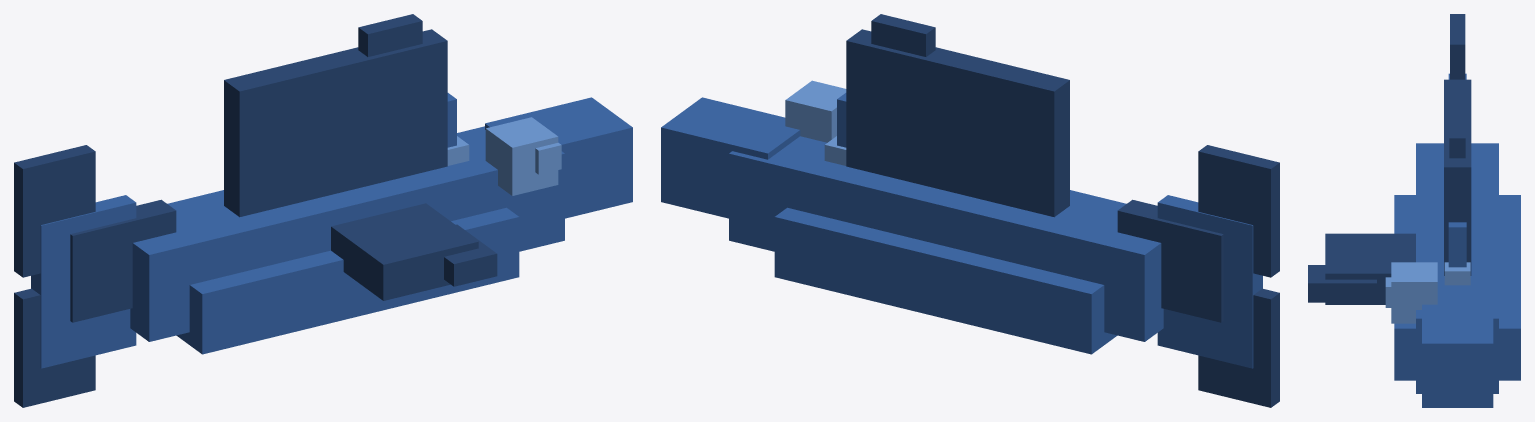
The model's file is fish_cobalt_smelt.glb.
The picture shows the model from 3 angles, left to right: view 1: azimuth 30°, elevation 25°; view 2: azimuth 150°, elevation 25°; view 3: azimuth 270°, elevation 25°; orthographic projection. The views are drawn at different scales.
Parts seen in each view (by area): view 1: FishArt_body, FishArt_dorsal, FishArt_tail, FishArt_pectoral, FishArt_eye; view 2: FishArt_body, FishArt_dorsal, FishArt_tail, FishArt_eye; view 3: FishArt_body, FishArt_pectoral, FishArt_dorsal, FishArt_eye, FishArt_tail, FishArt_specialty.
Part boxes in pixels (<box>): FishArt_body: <box>31,93,632,368</box>; FishArt_dorsal: <box>224,14,447,217</box>; FishArt_tail: <box>14,145,176,407</box>; FishArt_pectoral: <box>331,203,497,300</box>; FishArt_eye: <box>485,117,561,195</box>; FishArt_body: <box>661,93,1262,368</box>; FishArt_dorsal: <box>846,14,1069,217</box>; FishArt_tail: <box>1117,145,1279,407</box>; FishArt_eye: <box>785,80,846,142</box>; FishArt_body: <box>1394,73,1520,407</box>; FishArt_pectoral: <box>1308,233,1415,304</box>; FishArt_dorsal: <box>1444,79,1471,275</box>; FishArt_eye: <box>1385,262,1437,323</box>; FishArt_tail: <box>1450,14,1465,79</box>; FishArt_specialty: <box>1444,262,1470,285</box>.
Bounding box in the file's own units: 0.3091 × 0.1442 × 0.111.
